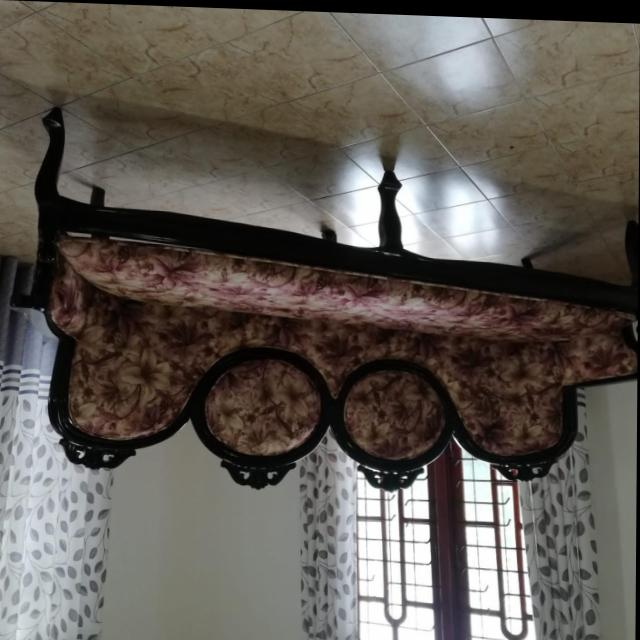Sofa: (33, 115, 639, 494)
